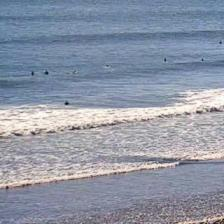surfer: (64, 101, 70, 105), (66, 72, 76, 74), (44, 71, 48, 75), (105, 64, 109, 67), (31, 71, 33, 76), (219, 41, 222, 44), (164, 58, 166, 62), (202, 58, 204, 61)
